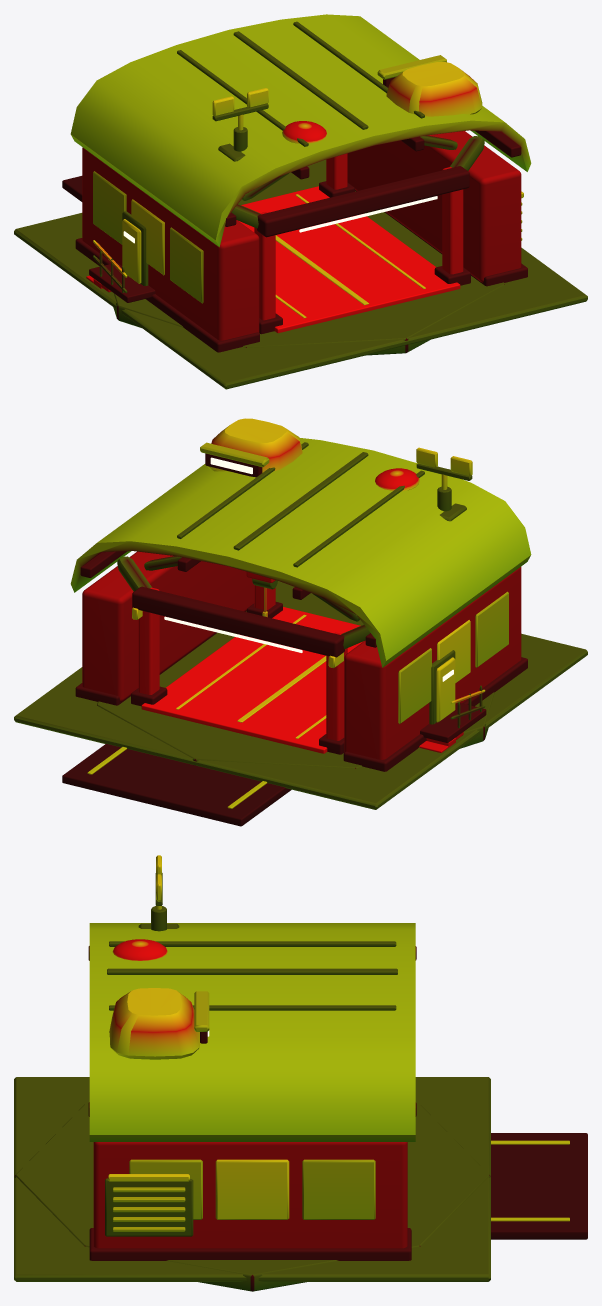
Rendered from OverlordCommandHQFactory.fbx.
3 renders of one model, top to bottom at view 1: azimuth 30°, elevation 25°; view 2: azimuth 150°, elevation 25°; view 3: azimuth 270°, elevation 25°, orthographic. The views are drawn at different scales.
Visible parts, largest first — view 1: OverlordCommandHQFactory_OverlordCommandHQFactory_PrimaryArm, OverlordCommandHQFactory_OverlordCommandHQFactory_Gunmetal, OverlordCommandHQFactoryFloor_ProductionLane, OverlordCommandHQFactory_OverlordCommandHQFactory_LightArmor, OverlordCommandHQFactory_OverlordCommandHQFactory_Warning, OverlordCommandHQFactory_OverlordCommandHQFactory_Emissive; view 2: OverlordCommandHQFactory_OverlordCommandHQFactory_PrimaryArm, OverlordCommandHQFactory_OverlordCommandHQFactory_Gunmetal, OverlordCommandHQFactoryFloor_ProductionLane, OverlordCommandHQFactory_OverlordCommandHQFactory_LightArmor, OverlordCommandHQFactory_OverlordCommandHQFactory_Warning, OverlordCommandHQFactory_OverlordCommandHQFactory_Emissive; view 3: OverlordCommandHQFactory_OverlordCommandHQFactory_PrimaryArm, OverlordCommandHQFactory_OverlordCommandHQFactory_Gunmetal, OverlordCommandHQFactory_OverlordCommandHQFactory_LightArmor, OverlordCommandHQFactory_OverlordCommandHQFactory_Warning.
Part boxes in pixels (x1,y1,x2,y2): OverlordCommandHQFactory_OverlordCommandHQFactory_PrimaryArm: [70, 14, 531, 340]; OverlordCommandHQFactory_OverlordCommandHQFactory_Gunmetal: [14, 21, 587, 389]; OverlordCommandHQFactoryFloor_ProductionLane: [239, 186, 460, 333]; OverlordCommandHQFactory_OverlordCommandHQFactory_LightArmor: [86, 62, 523, 320]; OverlordCommandHQFactory_OverlordCommandHQFactory_Warning: [93, 194, 425, 318]; OverlordCommandHQFactory_OverlordCommandHQFactory_Emissive: [123, 196, 437, 243]; OverlordCommandHQFactory_OverlordCommandHQFactory_PrimaryArm: [70, 437, 531, 759]; OverlordCommandHQFactory_OverlordCommandHQFactory_Gunmetal: [14, 442, 587, 826]; OverlordCommandHQFactoryFloor_ProductionLane: [141, 607, 363, 753]; OverlordCommandHQFactory_OverlordCommandHQFactory_LightArmor: [138, 418, 472, 752]; OverlordCommandHQFactory_OverlordCommandHQFactory_Warning: [87, 572, 485, 808]; OverlordCommandHQFactory_OverlordCommandHQFactory_Emissive: [164, 457, 453, 681]; OverlordCommandHQFactory_OverlordCommandHQFactory_PrimaryArm: [89, 923, 415, 1248]; OverlordCommandHQFactory_OverlordCommandHQFactory_Gunmetal: [14, 873, 587, 1291]; OverlordCommandHQFactory_OverlordCommandHQFactory_LightArmor: [108, 855, 289, 1219]; OverlordCommandHQFactory_OverlordCommandHQFactory_Warning: [491, 1140, 569, 1221].
Bounding box in the file's own units: 957 × 591 × 1155.
